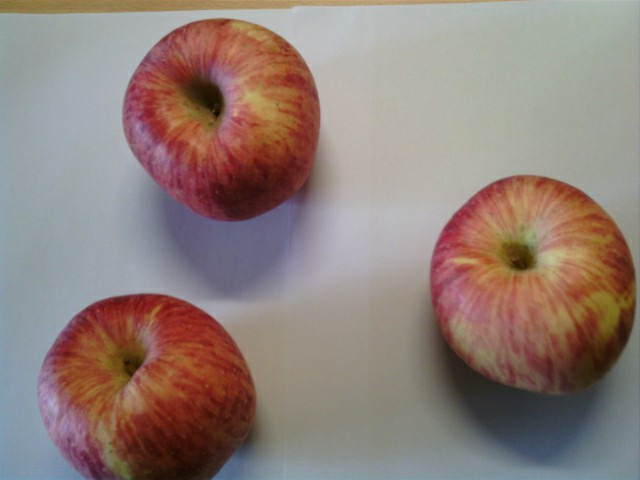normal_apple: (430, 175, 640, 396), (37, 292, 259, 480), (123, 17, 323, 225)
